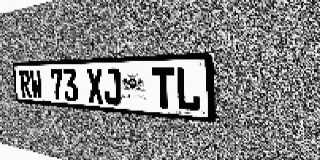3: (62, 69, 78, 102)
7: (49, 69, 64, 101)
J: (102, 68, 122, 105)
L: (175, 66, 201, 112)
R: (19, 70, 32, 98)
T: (152, 67, 176, 110)
W: (29, 70, 43, 99)
X: (86, 68, 104, 104)
